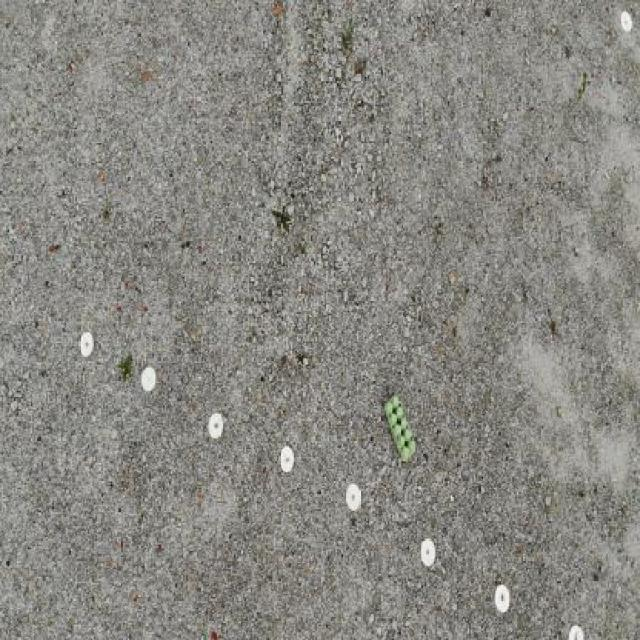Garbage: (383, 393, 416, 460)
